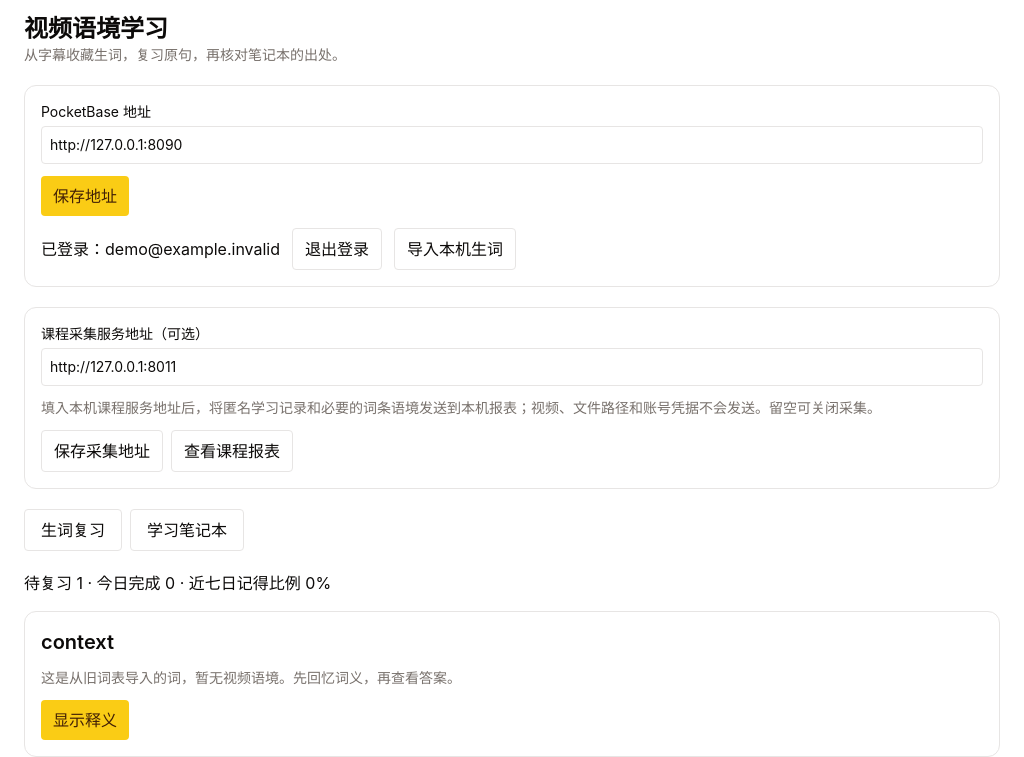
Scenario: 课程采集在学习页的反馈 › 评分保存但采集失败时仍更新学习进度，并提示不要重复评分
The width and height of the screenshot is (1024, 757).
Expected: the heading "context" is shown, x1=41 y1=630 x2=114 y2=654
Click the button "显示释义" at [85, 720], box x1=41 y1=700 x2=129 y2=740
(page scrolled)
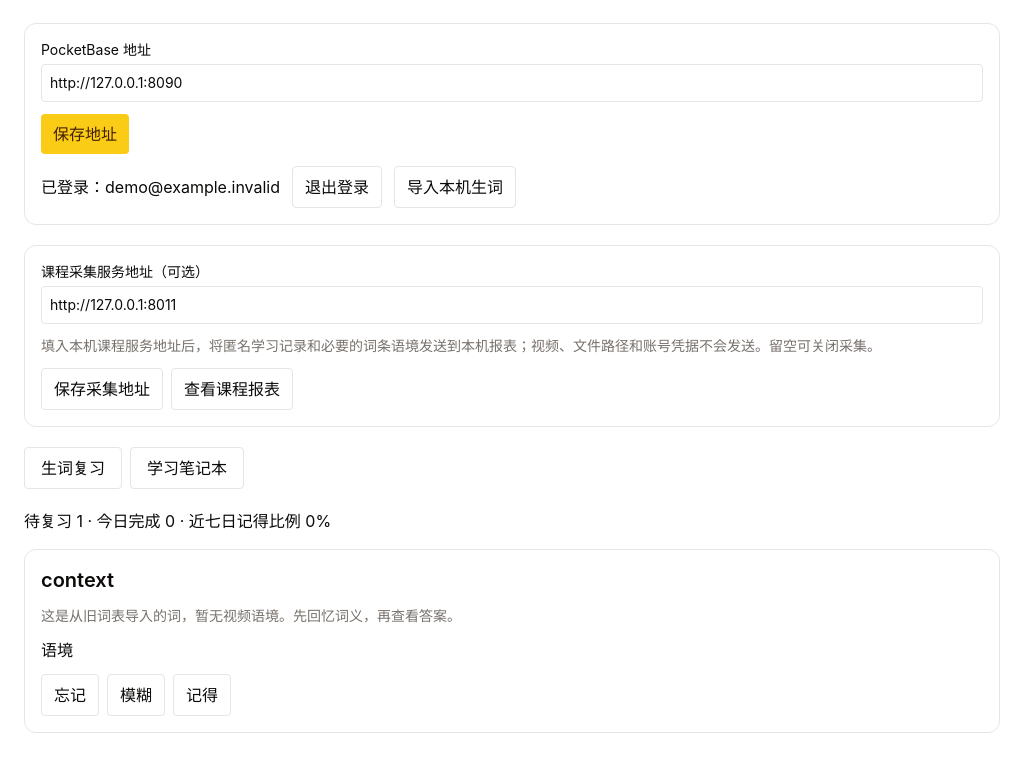
Click the button "记得" at [202, 695], box x1=173 y1=674 x2=231 y2=716
(page scrolled)
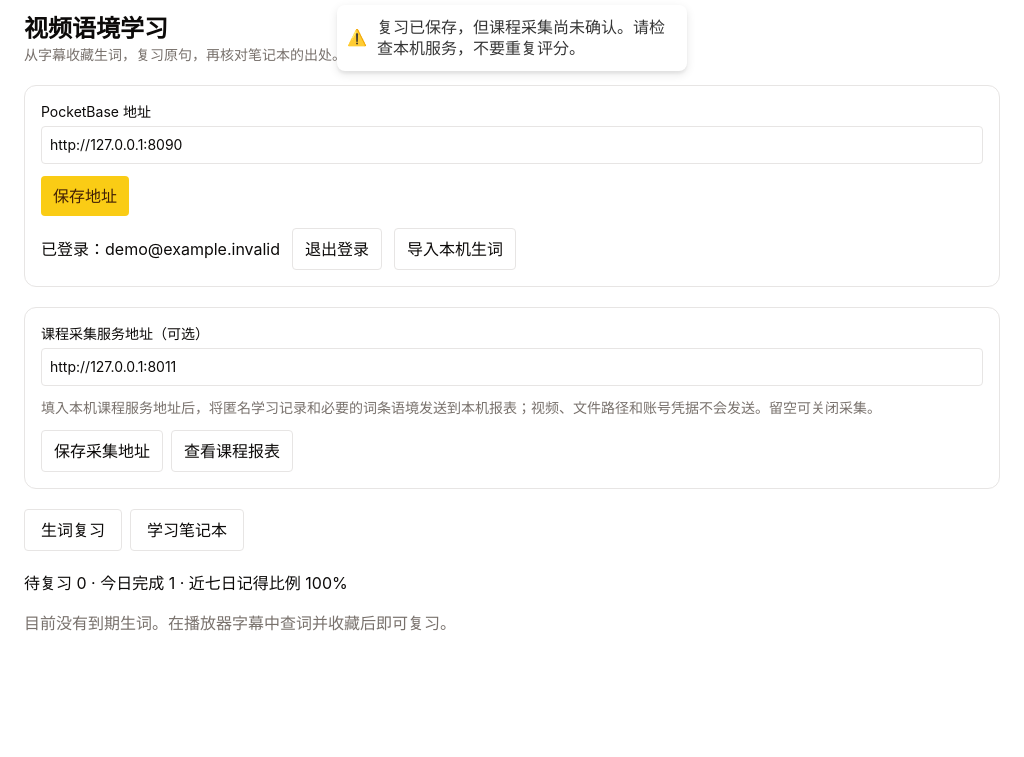
Result: the text "复习已保存，但课程采集尚未确认。请检查本机服务，不要重复评分。" is shown at x1=377 y1=17 x2=667 y2=59
Result: the text "目前没有到期生词。在播放器字幕中查词并收藏后即可复习。" is shown at x1=24 y1=613 x2=456 y2=633
Result: the text "待复习 0 · 今日完成 1 · 近七日记得比例 100%" is shown at x1=24 y1=573 x2=348 y2=593
